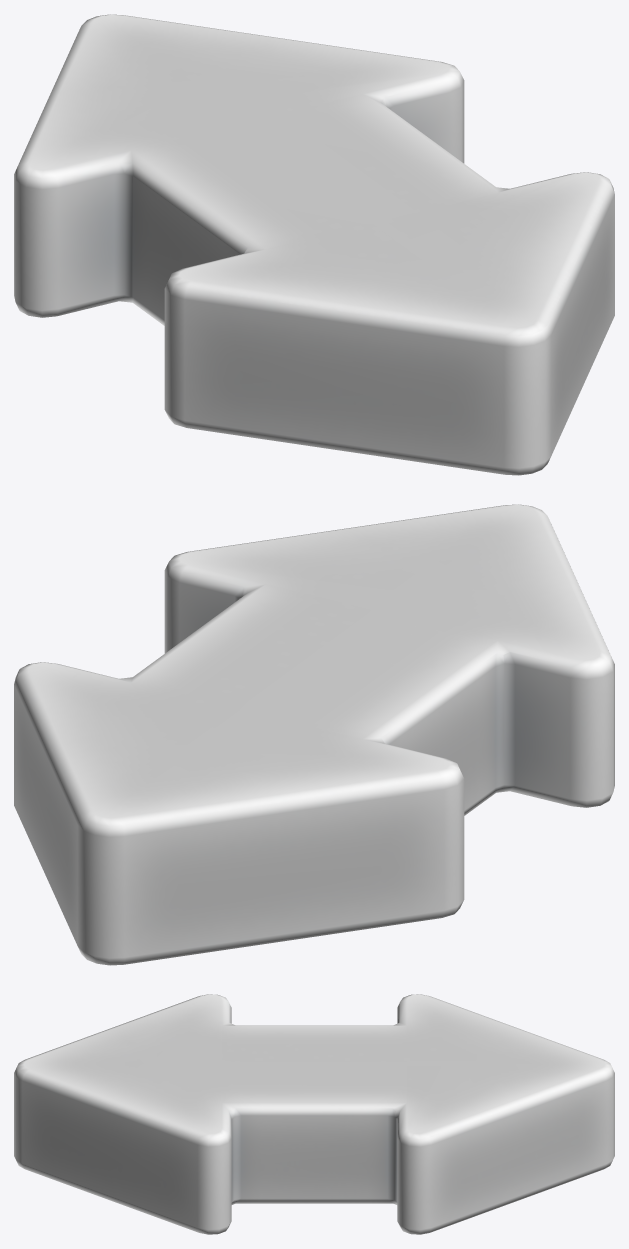
Rendered from Arrow_01.fbx.
The picture shows the model from 3 angles, top to bottom: view 1: azimuth 30°, elevation 25°; view 2: azimuth 150°, elevation 25°; view 3: azimuth 270°, elevation 25°; orthographic projection. The views are drawn at different scales.
Visible parts, largest first — view 1: Arrow; view 2: Arrow; view 3: Arrow.
Part boxes in pixels (box(x1,y1,x2,y2)): Arrow: box(14, 14, 614, 475); Arrow: box(14, 504, 614, 965); Arrow: box(14, 994, 614, 1234).
Bounding box in the file's own units: 0.3489 × 0.1106 × 0.6.
1 material, 1 textured.
